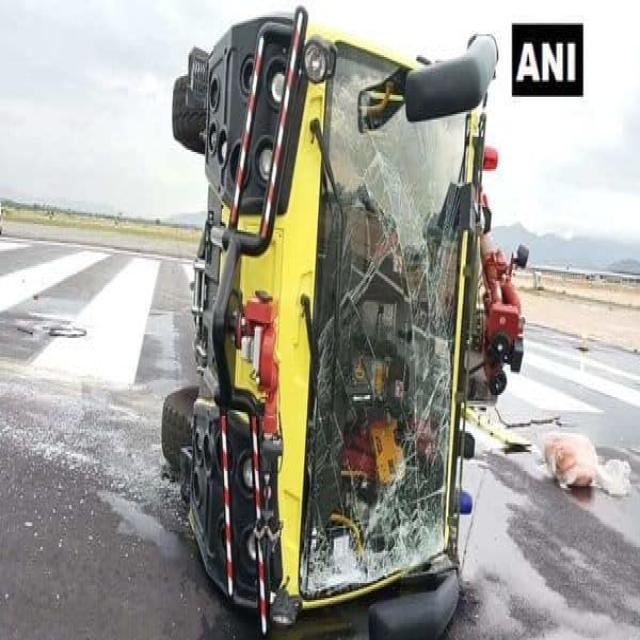accident: (162, 9, 524, 632)
